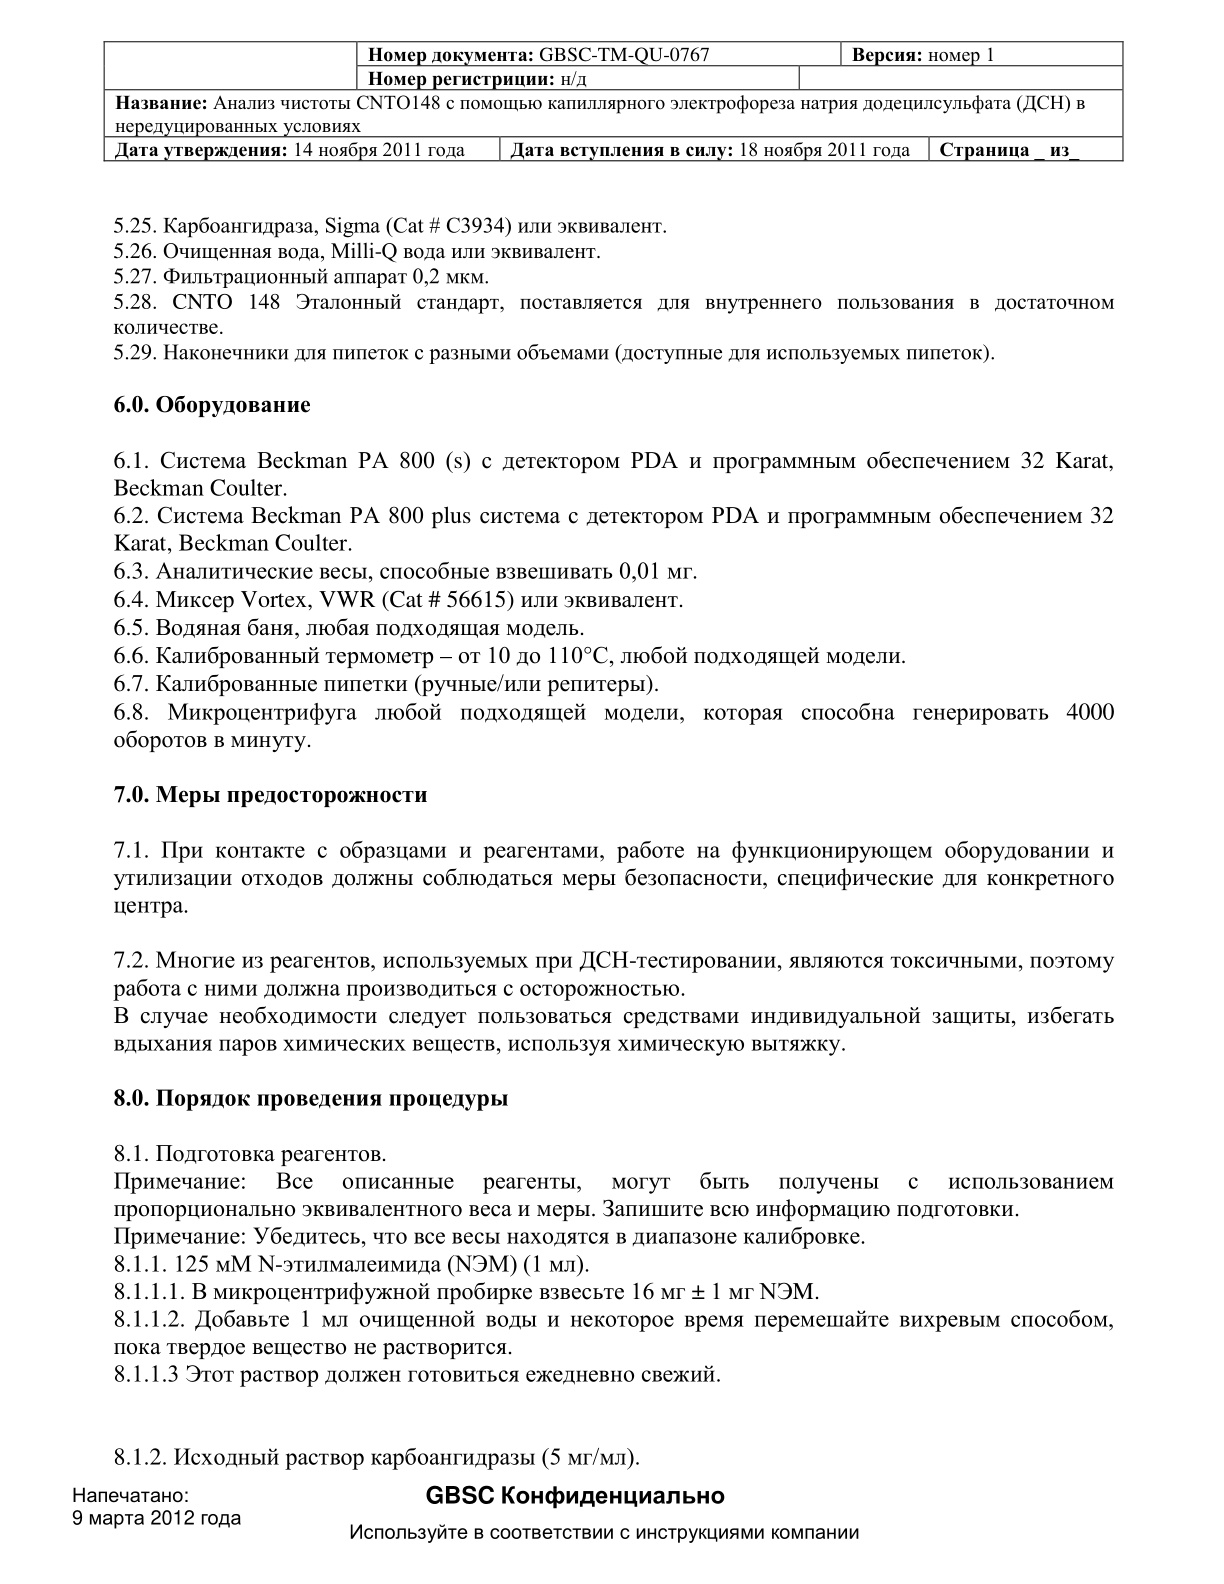merged_cells: (102, 41, 1125, 163)
